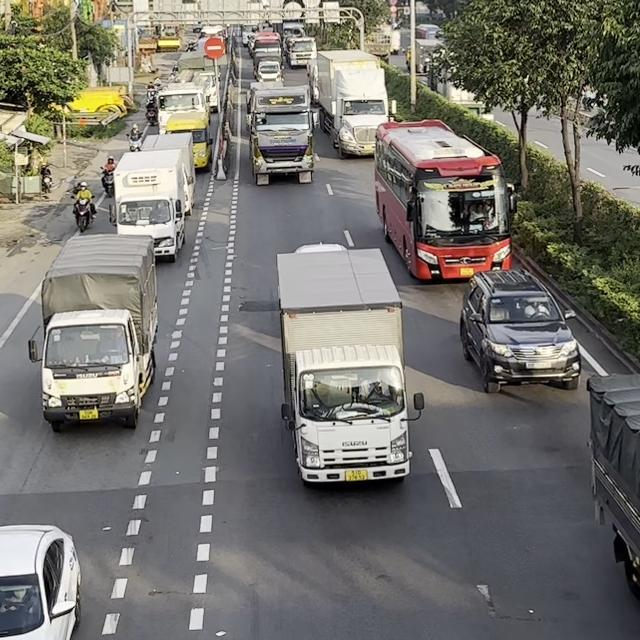bus: (373, 117, 518, 282)
car: (458, 267, 581, 394), (0, 523, 81, 639)
motorcycle: (71, 197, 96, 233), (99, 167, 114, 196), (126, 129, 144, 151)
truck: (276, 242, 424, 487), (27, 232, 159, 431), (585, 371, 639, 602), (306, 48, 396, 158), (110, 147, 193, 262), (245, 83, 316, 185), (138, 132, 196, 215)
